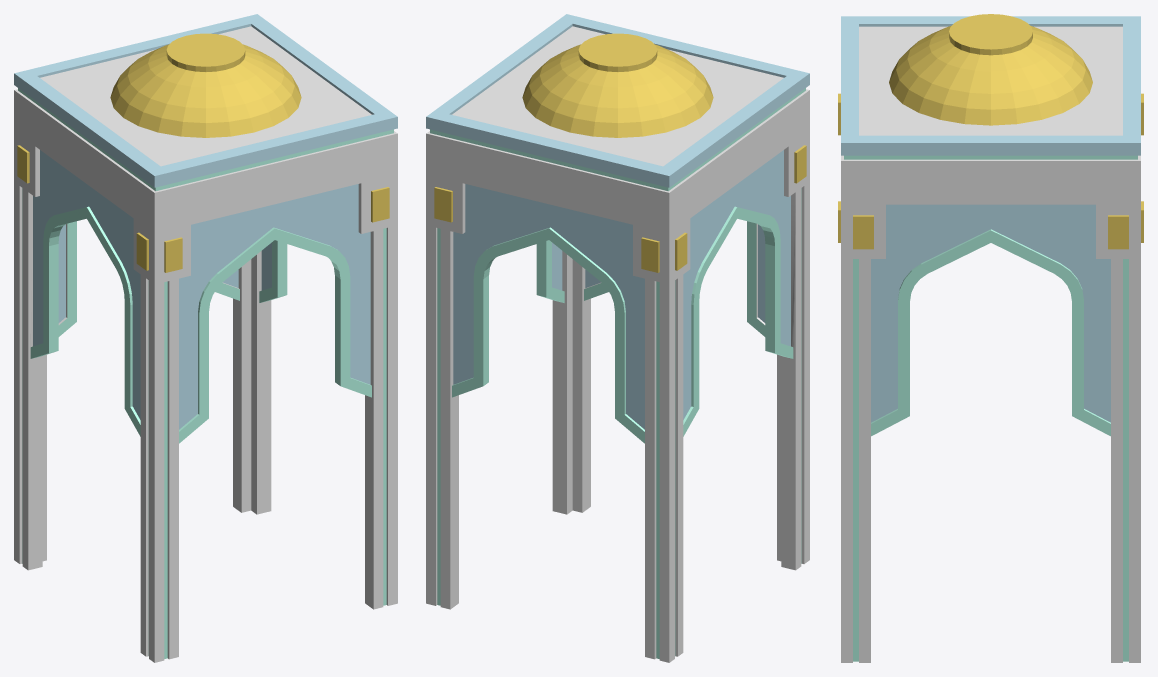
File: Standin.fbx
3 views of the same model, side by side, from view 1: azimuth 30°, elevation 25°; view 2: azimuth 150°, elevation 25°; view 3: azimuth 270°, elevation 25° (orthographic). The views are drawn at different scales.
Parts seen in each view (by area): view 1: Prop_Building_Eastern_Free_Standing_Arches_01.002, Prop_Building_Eastern_Free_Standing_Arches_01.003, Prop_Building_Eastern_Free_Standing_Arches_01.001, Prop_Building_Eastern_Free_Standing_Arches_01.004; view 2: Prop_Building_Eastern_Free_Standing_Arches_01.002, Prop_Building_Eastern_Free_Standing_Arches_01.003, Prop_Building_Eastern_Free_Standing_Arches_01.001, Prop_Building_Eastern_Free_Standing_Arches_01.004; view 3: Prop_Building_Eastern_Free_Standing_Arches_01.002, Prop_Building_Eastern_Free_Standing_Arches_01.003, Prop_Building_Eastern_Free_Standing_Arches_01.004, Prop_Building_Eastern_Free_Standing_Arches_01.001.
Boxes of the visible parts, left/top/right/bottom form: Prop_Building_Eastern_Free_Standing_Arches_01.002: left=14, top=26, right=397, bottom=662; Prop_Building_Eastern_Free_Standing_Arches_01.003: left=14, top=14, right=397, bottom=429; Prop_Building_Eastern_Free_Standing_Arches_01.001: left=18, top=88, right=393, bottom=658; Prop_Building_Eastern_Free_Standing_Arches_01.004: left=17, top=33, right=389, bottom=272; Prop_Building_Eastern_Free_Standing_Arches_01.002: left=426, top=26, right=809, bottom=662; Prop_Building_Eastern_Free_Standing_Arches_01.003: left=426, top=14, right=809, bottom=429; Prop_Building_Eastern_Free_Standing_Arches_01.001: left=430, top=88, right=805, bottom=658; Prop_Building_Eastern_Free_Standing_Arches_01.004: left=434, top=33, right=806, bottom=272; Prop_Building_Eastern_Free_Standing_Arches_01.002: left=841, top=26, right=1140, bottom=662; Prop_Building_Eastern_Free_Standing_Arches_01.003: left=841, top=16, right=1140, bottom=422; Prop_Building_Eastern_Free_Standing_Arches_01.004: left=838, top=14, right=1143, bottom=249; Prop_Building_Eastern_Free_Standing_Arches_01.001: left=844, top=155, right=1137, bottom=661.
Bounding box in the file's own units: 481 × 985 × 481.
